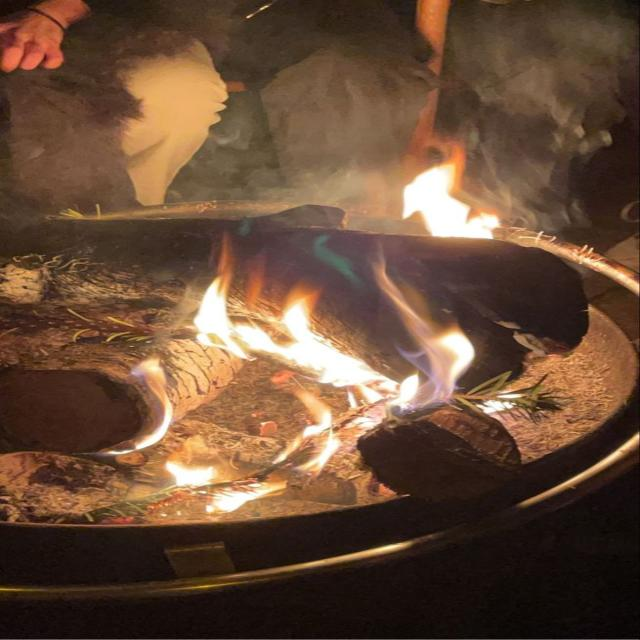fire: (192, 231, 314, 360), (399, 140, 502, 240), (297, 341, 423, 412), (108, 355, 175, 457), (422, 324, 475, 402), (270, 422, 341, 474), (207, 483, 285, 513), (164, 461, 220, 487)
